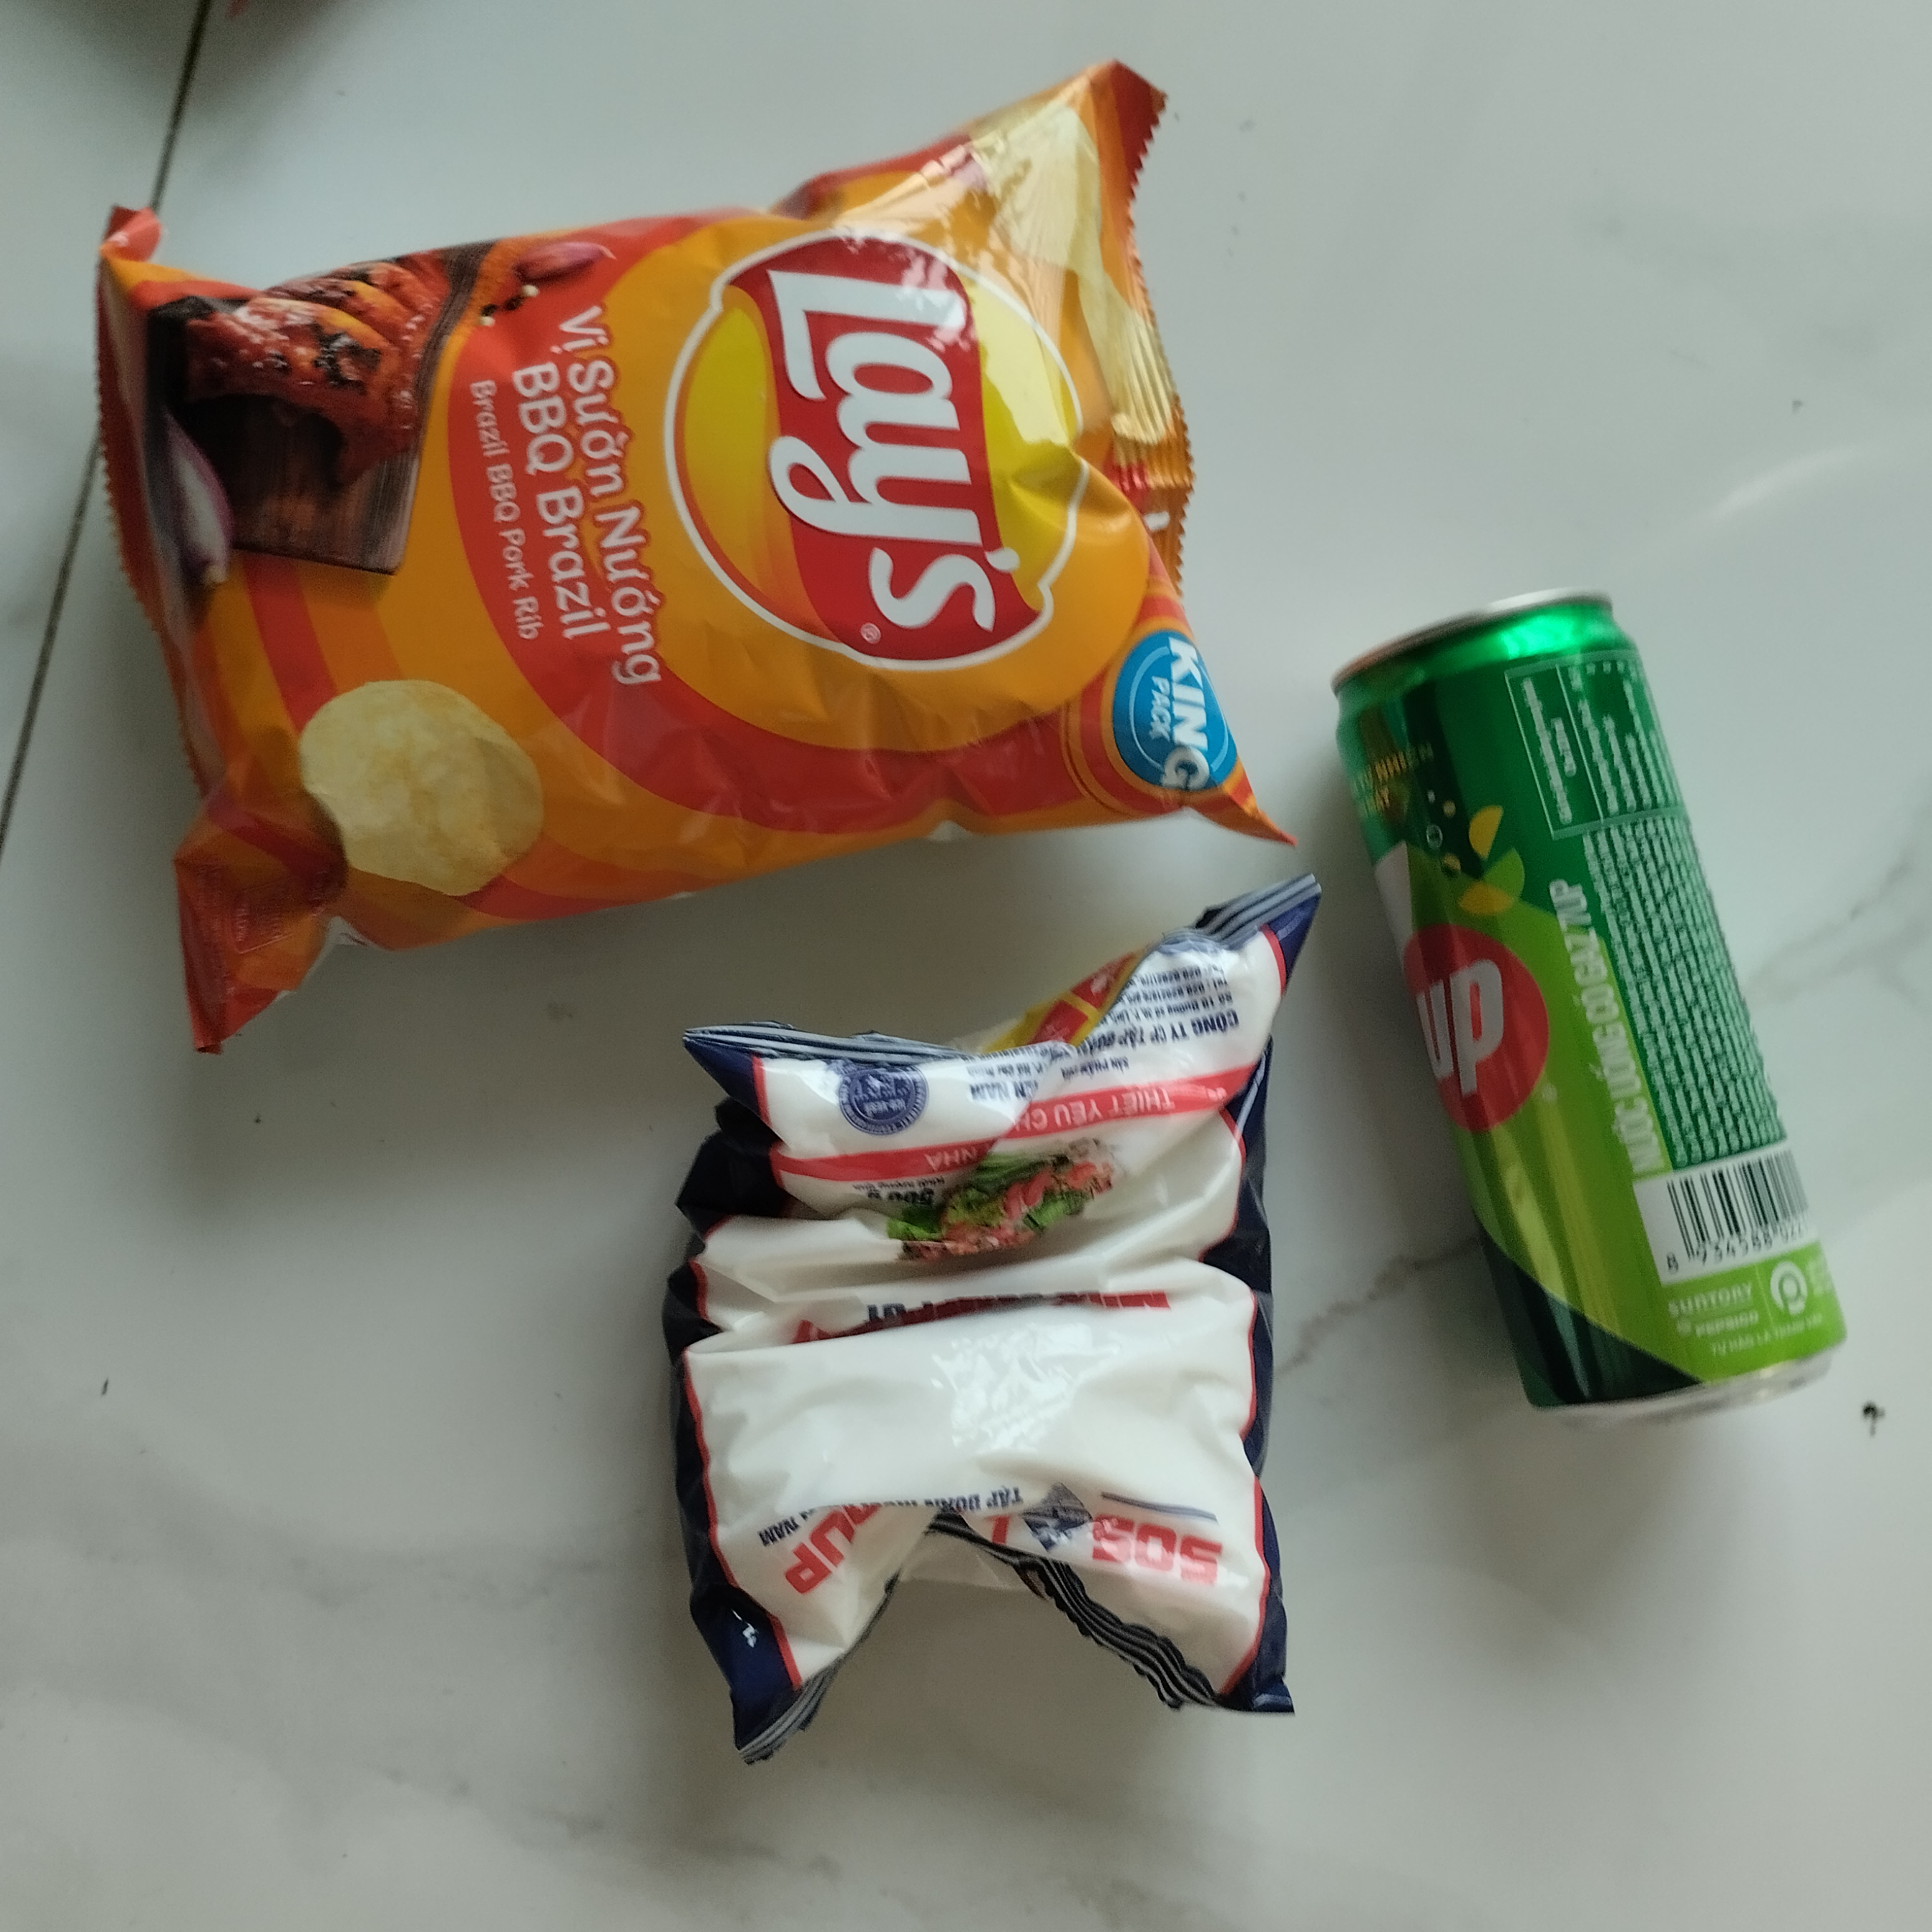7up: (1325, 582, 1858, 1430)
Lays: (58, 46, 1309, 1065)
Salt: (633, 870, 1330, 1787)
